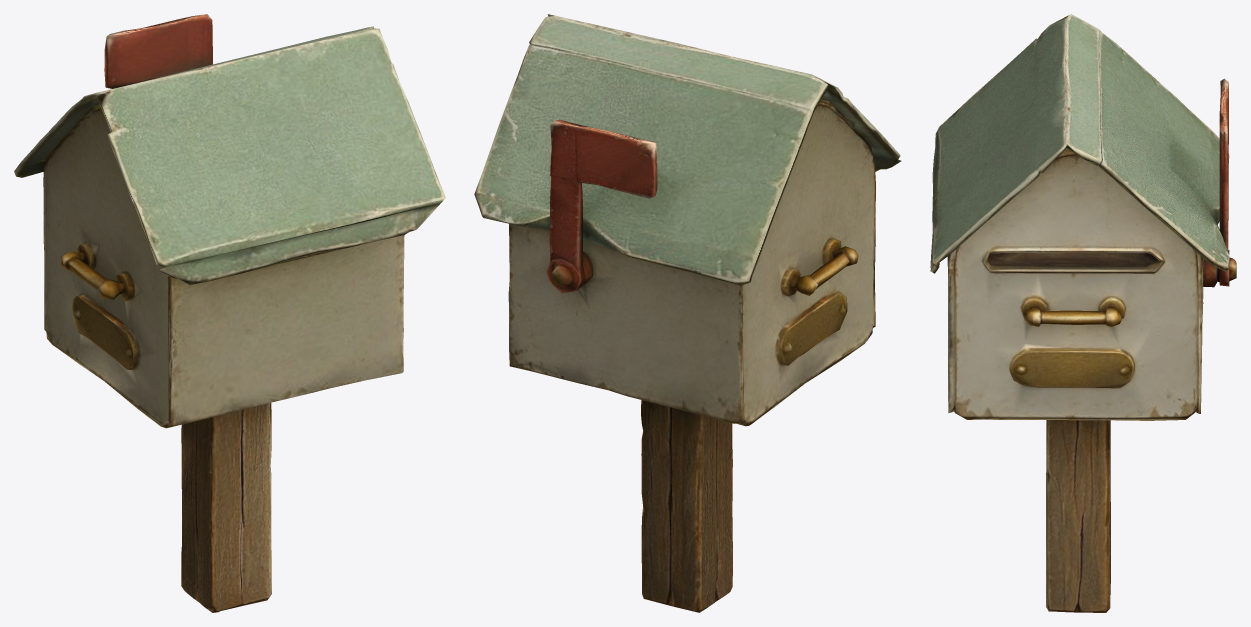
3 views of the same model, side by side, from view 1: azimuth 30°, elevation 25°; view 2: azimuth 150°, elevation 25°; view 3: azimuth 270°, elevation 25° (orthographic). The views are drawn at different scales.
Visible parts, largest first — view 1: tripo_node_71442605-25a9-4fc6-8e43-1eacd6519197; view 2: tripo_node_71442605-25a9-4fc6-8e43-1eacd6519197; view 3: tripo_node_71442605-25a9-4fc6-8e43-1eacd6519197.
Part boxes in pixels (box(x1,y1,x2,y2)): tripo_node_71442605-25a9-4fc6-8e43-1eacd6519197: box(14, 14, 445, 612); tripo_node_71442605-25a9-4fc6-8e43-1eacd6519197: box(474, 14, 901, 612); tripo_node_71442605-25a9-4fc6-8e43-1eacd6519197: box(930, 14, 1236, 612).
Size of the model in its own units: 0.5672 by 1 by 0.5297.
1 material, 1 textured.
